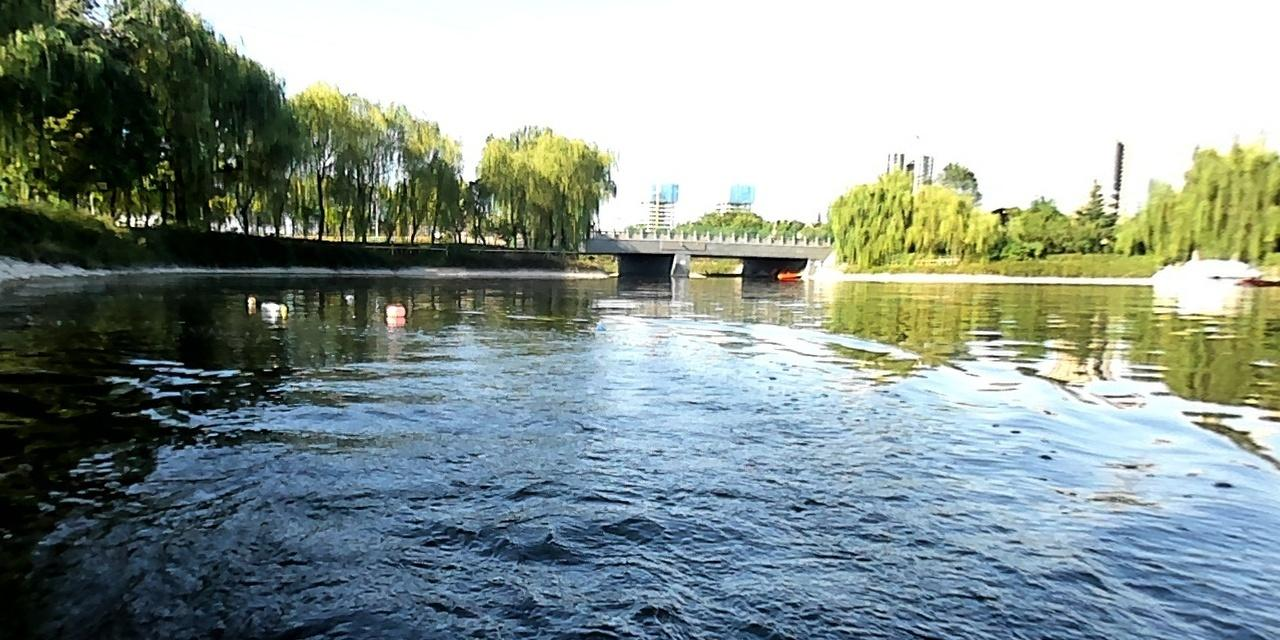bottle: (383, 301, 409, 319), (257, 300, 288, 313), (588, 319, 609, 333), (243, 293, 257, 308)
